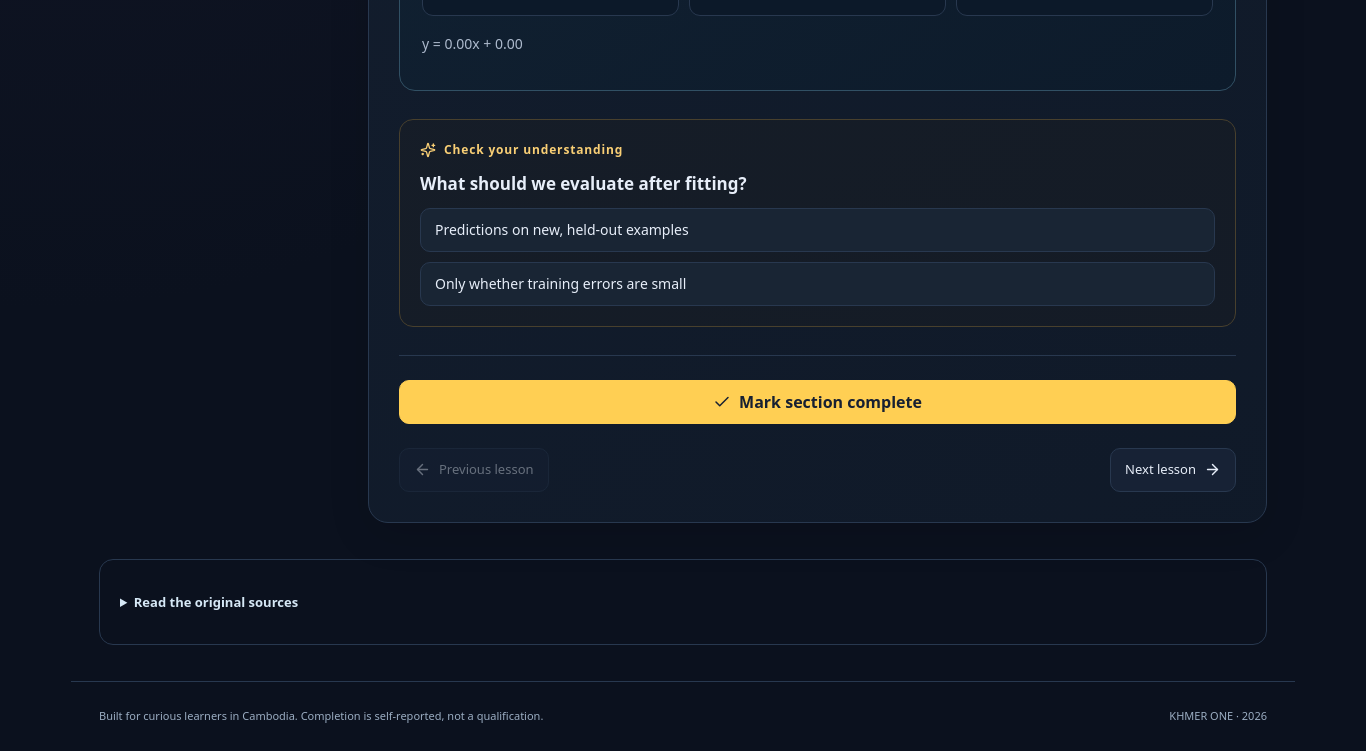
Scenario: bilingual guide interactions › keeps working when browser storage is blocked
(page scrolled)
Click the button "Mark section complete" at (818, 402), box [399,380,1236,424]
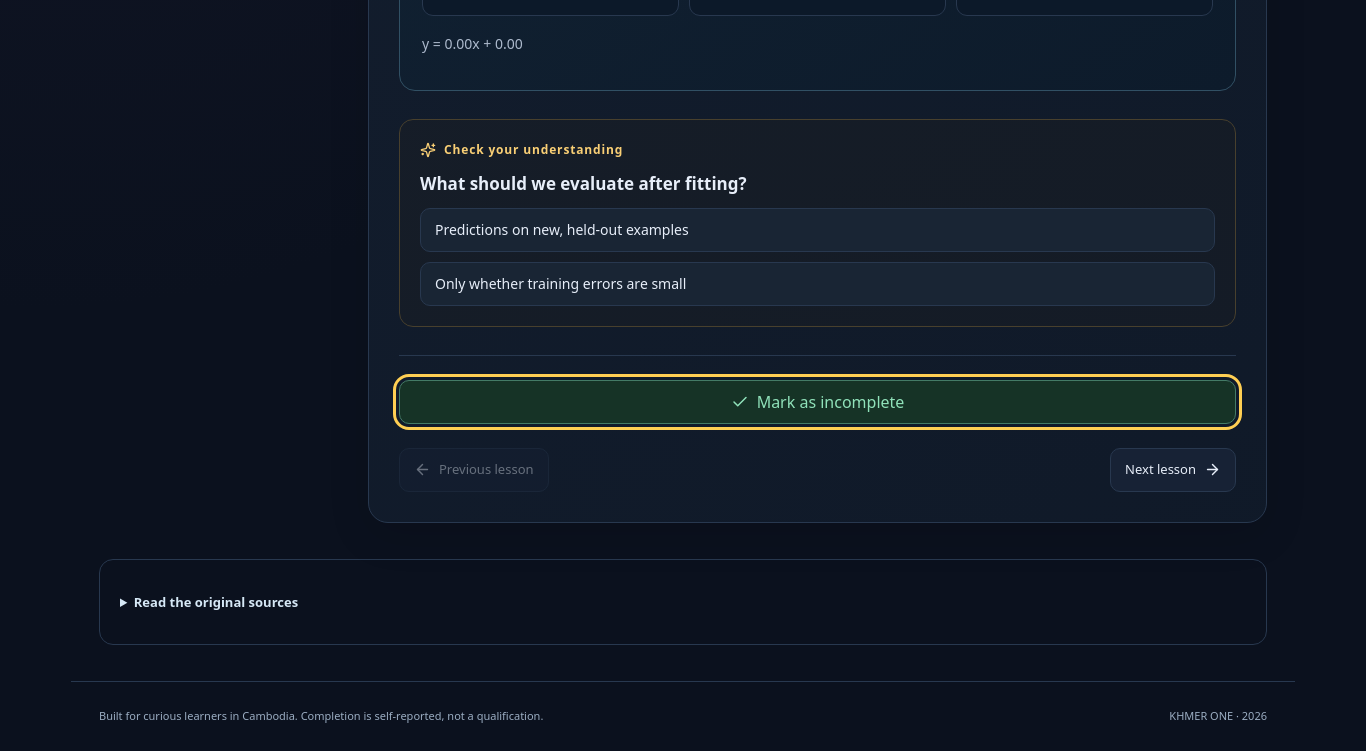
expect the button "Mark as incomplete" is shown: met, box [399,380,1236,424]
